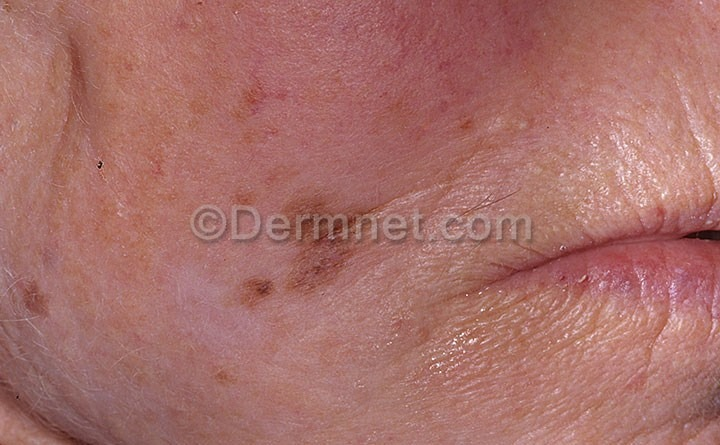Melasma: (173, 48, 364, 206), (372, 3, 563, 142), (539, 249, 720, 318), (216, 245, 349, 337), (0, 256, 88, 358)
